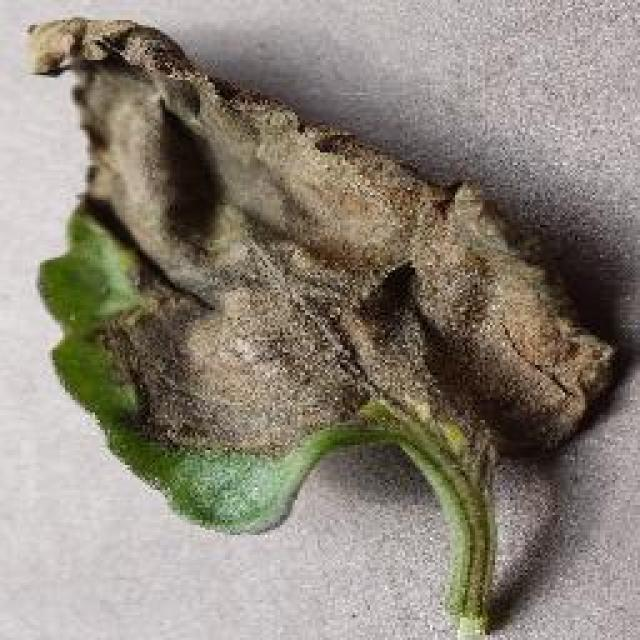Tomato___Late_blight: (25, 18, 622, 638)
